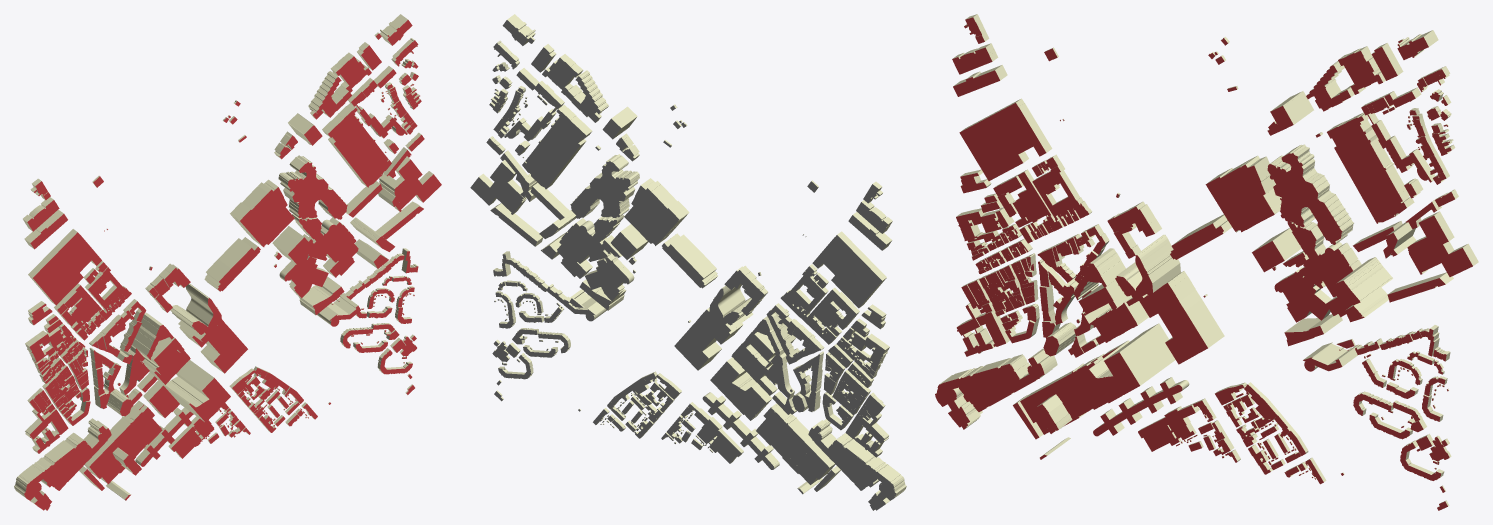
3 renders of one model, left to right at view 1: azimuth 30°, elevation 25°; view 2: azimuth 150°, elevation 25°; view 3: azimuth 330°, elevation 25°, orthographic. The views are drawn at different scales.
Parts seen in each view (by area): view 1: NL.IMBAG.Pand.0518100000304595-656, NL.IMBAG.Pand.0518100000225802-274, NL.IMBAG.Pand.0518100001774715-3, NL.IMBAG.Pand.0518100001774714-20, NL.IMBAG.Pand.0518100000243790-608, NL.IMBAG.Pand.0518100000237257-610, NL.IMBAG.Pand.0518100000321931-576, NL.IMBAG.Pand.0518100001635181-227, NL.IMBAG.Pand.0518100001749878-266, NL.IMBAG.Pand.0518100000274290-263, NL.IMBAG.Pand.0518100000271819-454, NL.IMBAG.Pand.0518100000234465-641 (+26 smaller); view 2: NL.IMBAG.Pand.0518100000304595-656, NL.IMBAG.Pand.0518100000225802-274, NL.IMBAG.Pand.0518100001774715-3, NL.IMBAG.Pand.0518100000243790-608, NL.IMBAG.Pand.0518100001774714-20, NL.IMBAG.Pand.0518100000321931-576, NL.IMBAG.Pand.0518100000237257-610, NL.IMBAG.Pand.0518100000274290-263, NL.IMBAG.Pand.0518100000234465-641, NL.IMBAG.Pand.0518100000271819-454, NL.IMBAG.Pand.0518100000353597-213, NL.IMBAG.Pand.0518100000215029-457 (+24 smaller); view 3: NL.IMBAG.Pand.0518100000304595-656, NL.IMBAG.Pand.0518100000243790-608, NL.IMBAG.Pand.0518100000225802-274, NL.IMBAG.Pand.0518100000274290-263, NL.IMBAG.Pand.0518100000237257-610, NL.IMBAG.Pand.0518100001635181-227, NL.IMBAG.Pand.0518100001774714-20, NL.IMBAG.Pand.0518100000321931-576, NL.IMBAG.Pand.0518100001774715-3, NL.IMBAG.Pand.0518100000234465-641, NL.IMBAG.Pand.0518100001749878-266, NL.IMBAG.Pand.0518100000353597-213 (+32 smaller).
Boxes of the visible parts, x1,y1,x2,y2 form: NL.IMBAG.Pand.0518100000304595-656: [322, 103, 391, 187]; NL.IMBAG.Pand.0518100000225802-274: [28, 229, 101, 305]; NL.IMBAG.Pand.0518100001774715-3: [84, 405, 162, 484]; NL.IMBAG.Pand.0518100001774714-20: [15, 418, 111, 500]; NL.IMBAG.Pand.0518100000243790-608: [278, 155, 347, 219]; NL.IMBAG.Pand.0518100000237257-610: [230, 179, 294, 247]; NL.IMBAG.Pand.0518100000321931-576: [292, 214, 358, 277]; NL.IMBAG.Pand.0518100001635181-227: [158, 360, 230, 422]; NL.IMBAG.Pand.0518100001749878-266: [170, 283, 221, 341]; NL.IMBAG.Pand.0518100000274290-263: [179, 319, 247, 373]; NL.IMBAG.Pand.0518100000271819-454: [204, 237, 260, 291]; NL.IMBAG.Pand.0518100000234465-641: [394, 156, 441, 211]; NL.IMBAG.Pand.0518100000304595-656: [522, 104, 592, 189]; NL.IMBAG.Pand.0518100000225802-274: [812, 231, 886, 308]; NL.IMBAG.Pand.0518100001774715-3: [756, 404, 835, 484]; NL.IMBAG.Pand.0518100000243790-608: [570, 154, 639, 218]; NL.IMBAG.Pand.0518100001774714-20: [808, 419, 905, 500]; NL.IMBAG.Pand.0518100000321931-576: [557, 215, 623, 278]; NL.IMBAG.Pand.0518100000237257-610: [624, 178, 689, 245]; NL.IMBAG.Pand.0518100000274290-263: [674, 307, 743, 370]; NL.IMBAG.Pand.0518100000234465-641: [470, 160, 526, 214]; NL.IMBAG.Pand.0518100000271819-454: [662, 233, 717, 288]; NL.IMBAG.Pand.0518100000353597-213: [702, 392, 779, 469]; NL.IMBAG.Pand.0518100000215029-457: [585, 254, 634, 300]; NL.IMBAG.Pand.0518100000304595-656: [1327, 112, 1414, 223]; NL.IMBAG.Pand.0518100000243790-608: [1267, 144, 1353, 244]; NL.IMBAG.Pand.0518100000225802-274: [959, 98, 1052, 180]; NL.IMBAG.Pand.0518100000274290-263: [1139, 271, 1224, 364]; NL.IMBAG.Pand.0518100000237257-610: [1205, 155, 1281, 232]; NL.IMBAG.Pand.0518100001635181-227: [1088, 323, 1175, 403]; NL.IMBAG.Pand.0518100001774714-20: [935, 349, 1057, 411]; NL.IMBAG.Pand.0518100000321931-576: [1283, 221, 1361, 317]; NL.IMBAG.Pand.0518100001774715-3: [1020, 355, 1107, 434]; NL.IMBAG.Pand.0518100000234465-641: [1407, 211, 1478, 276]; NL.IMBAG.Pand.0518100001749878-266: [1115, 234, 1180, 305]; NL.IMBAG.Pand.0518100000353597-213: [1093, 377, 1189, 436].
Bounding box in the file's own units: 1111 × 1004 × 150.
